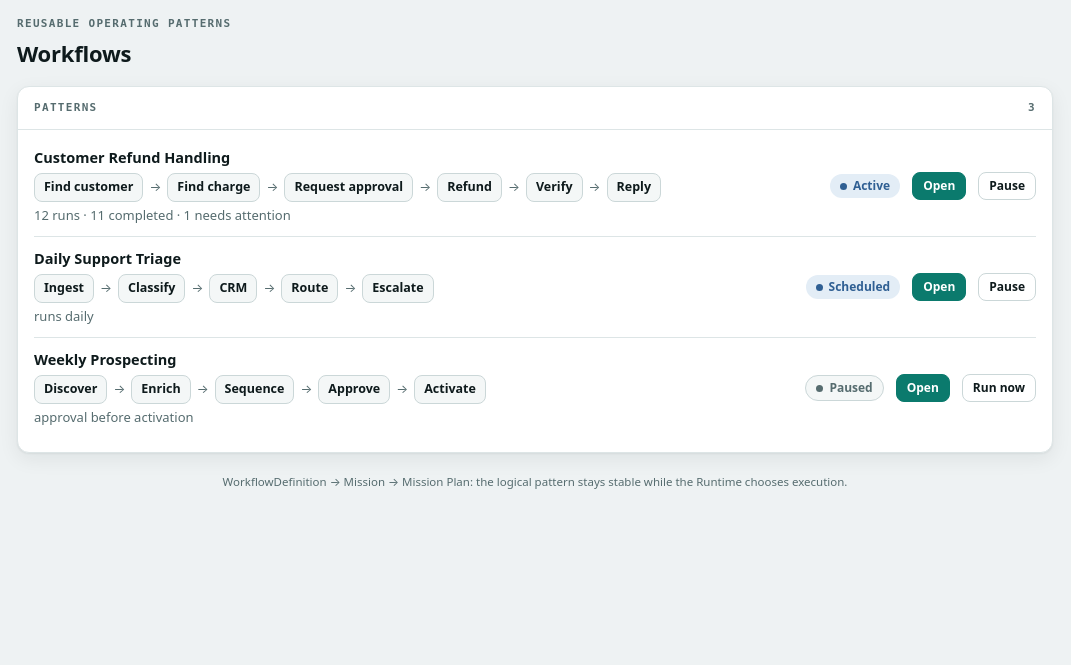
Test: Workflows › lists patterns, opens the detail, and shows a capability in the Steps tab
expect the text "Customer Refund Handling" is shown: met, box x1=34 y1=147 x2=230 y2=167
// open the refund workflow's detail
Click the button "Open" next to "Active".
click(939, 186)  # box x1=912 y1=172 x2=966 y2=200
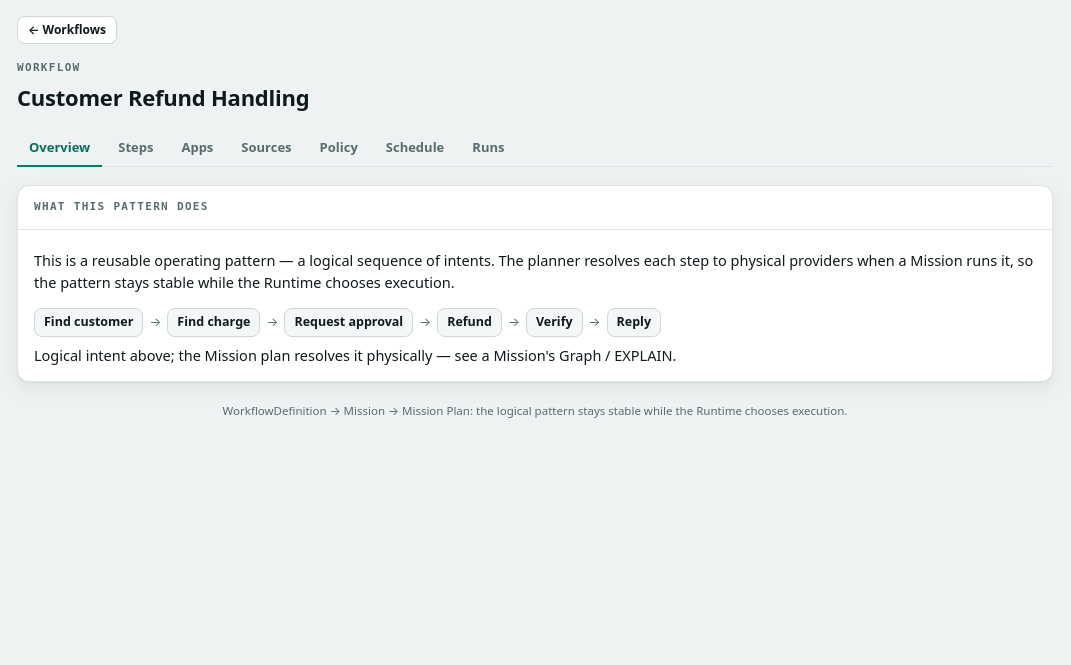
expect the tab "Policy" is shown: met, box x1=308 y1=130 x2=370 y2=167
// Steps tab surfaces the capability string
Click the tab "Steps".
click(136, 148)  # box x1=106 y1=130 x2=166 y2=167
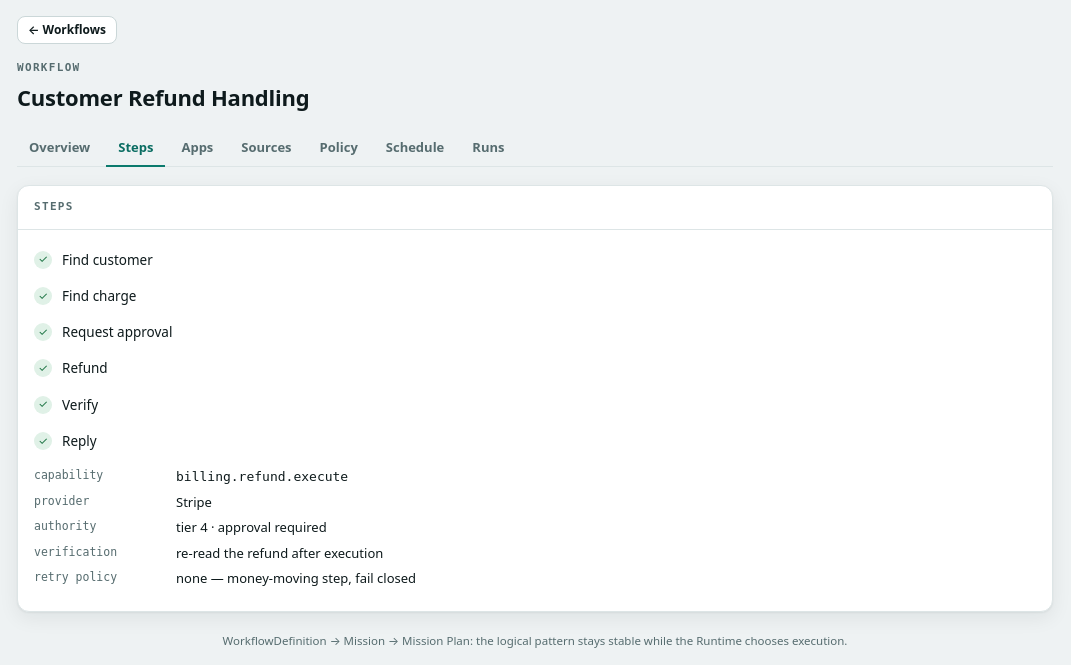
expect the text "billing.refund.execute" is shown: met, box x1=176 y1=469 x2=348 y2=484
